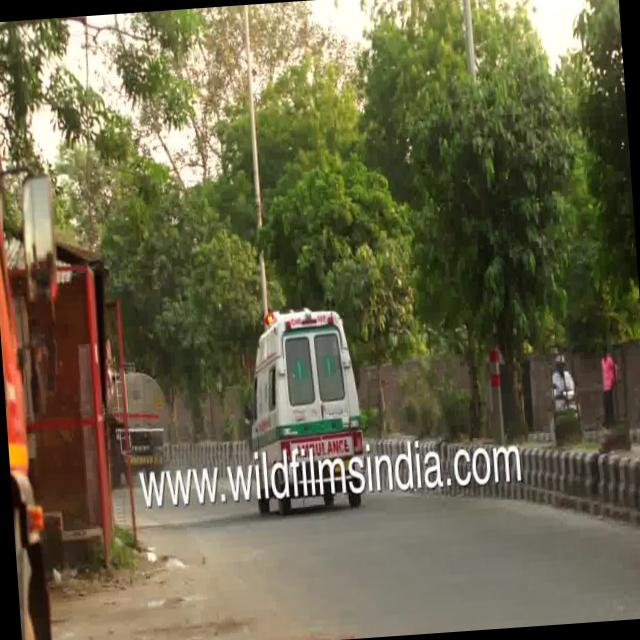ambulance: (242, 292, 372, 450)
